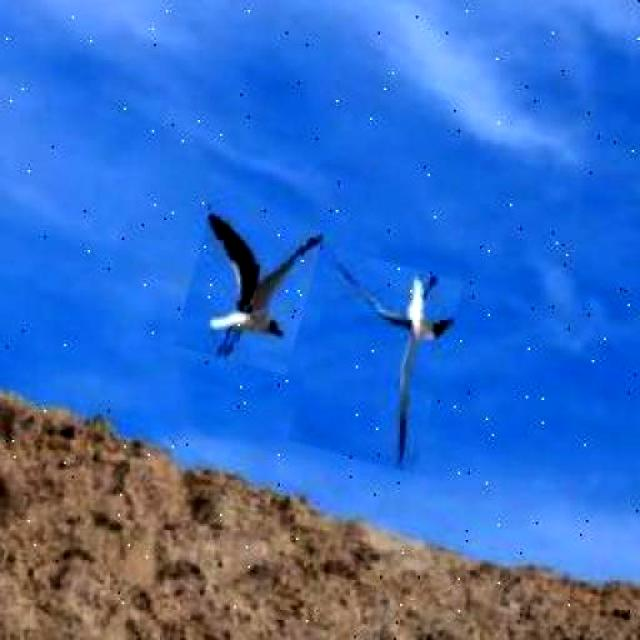airplane: (286, 249, 462, 472), (174, 201, 324, 375)
